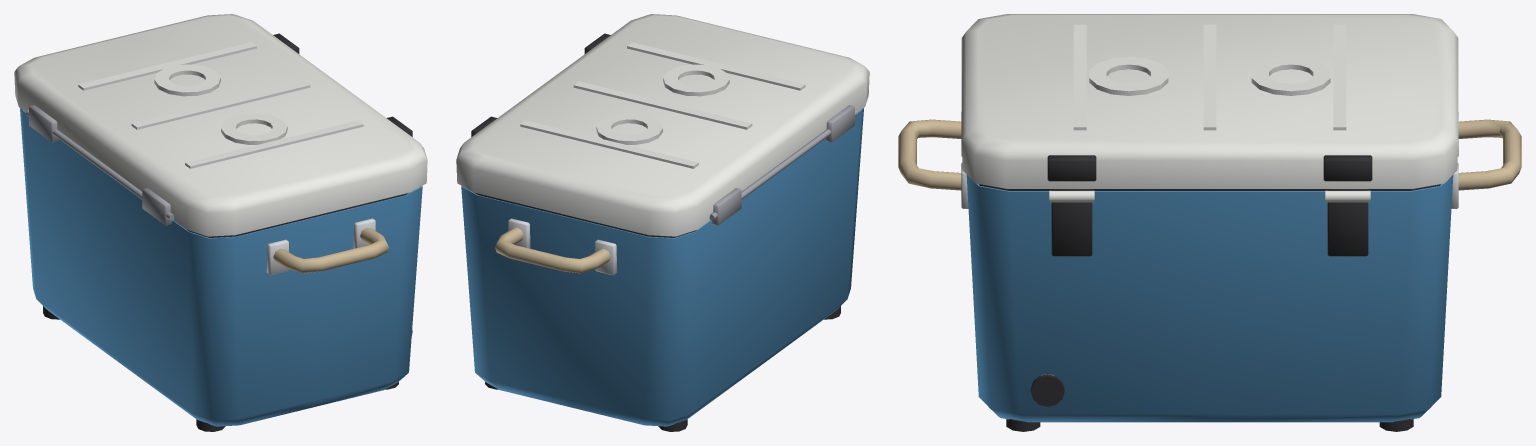
Rendered from cooler.glb.
The picture shows the model from 3 angles, left to right: view 1: azimuth 30°, elevation 25°; view 2: azimuth 150°, elevation 25°; view 3: azimuth 270°, elevation 25°; orthographic projection. The views are drawn at different scales.
Parts seen in each view (by area): view 1: SM_Jam_Cooler; view 2: SM_Jam_Cooler; view 3: SM_Jam_Cooler.
Boxes of the visible parts, x1=… form: SM_Jam_Cooler: x1=14, y1=14, x2=427, y2=431; SM_Jam_Cooler: x1=456, y1=14, x2=869, y2=431; SM_Jam_Cooler: x1=898, y1=14, x2=1521, y2=431.
Size of the model in its own units: 0.4325 by 0.4065 by 0.768.
